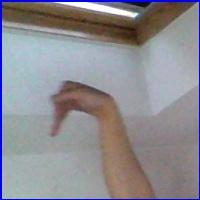del: (46, 77, 124, 143)
